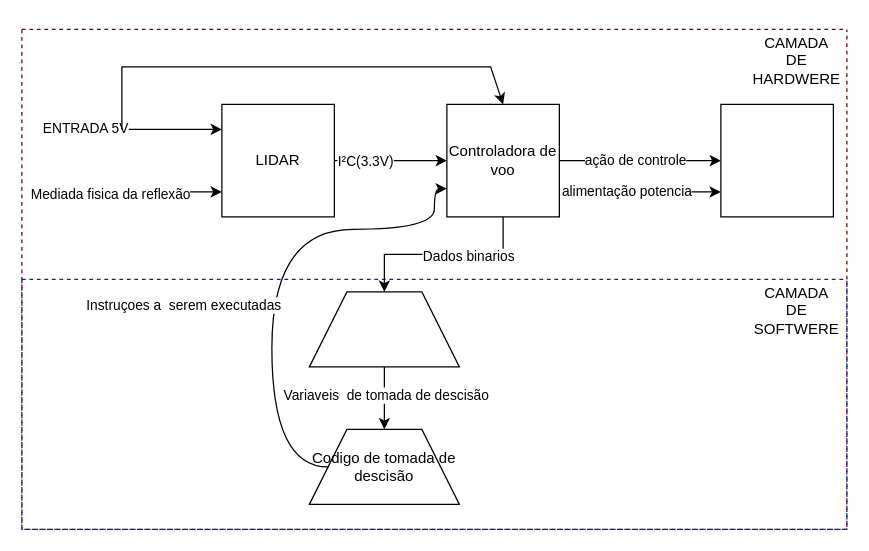
Image size: 869x551. Some labels were removed from this diagram. Here are the shapes that lost their labels. From the top down, the centre of each, then its label:
At point 776,160: "Motores".
At point 383,329: "Unidade de processamento".
